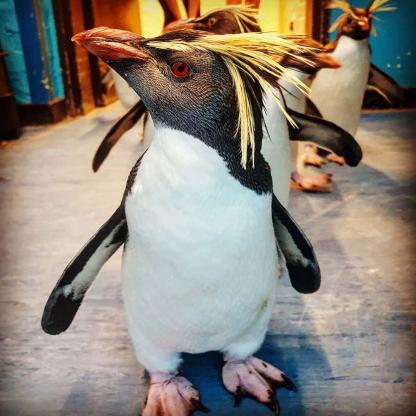Penguin: (25, 14, 333, 415), (156, 0, 340, 223), (290, 0, 406, 181)
